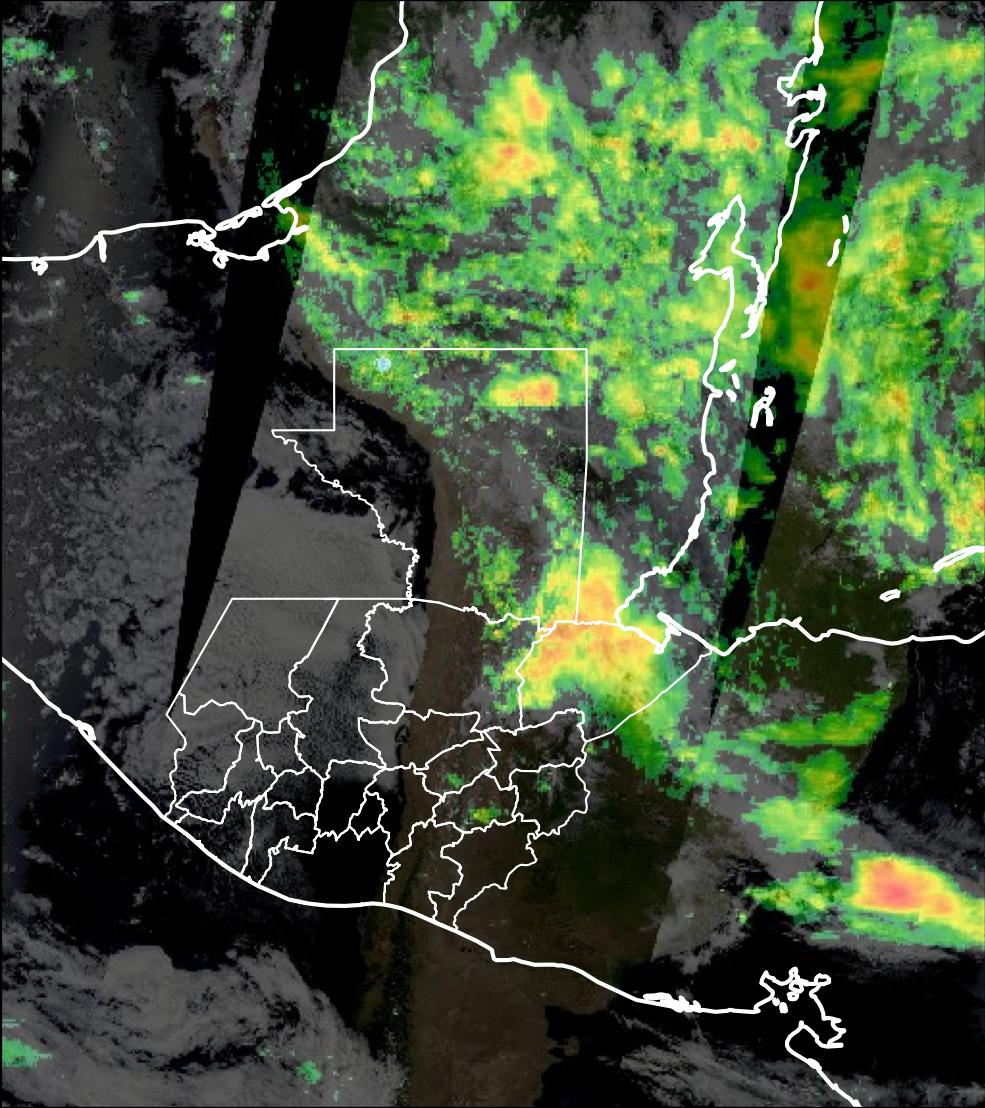precipitacion: (864, 848, 975, 930)
